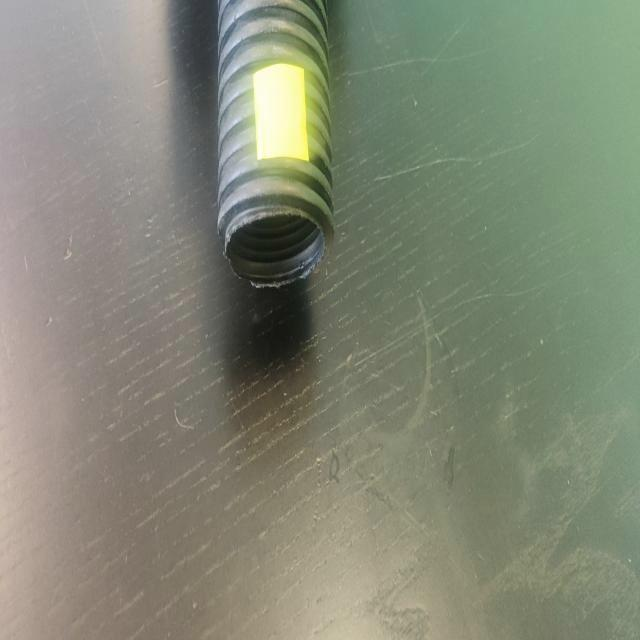robot-front: (221, 4, 329, 278)
